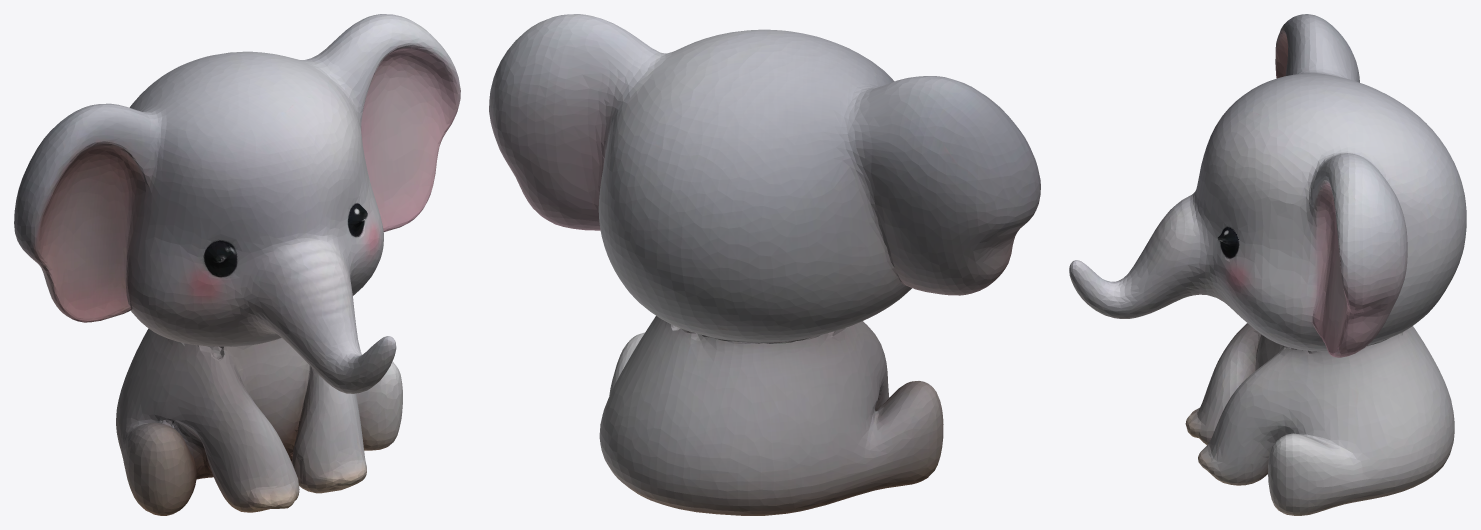
Rendered from elephant.glb.
3 views of the same model, side by side, from view 1: azimuth 30°, elevation 25°; view 2: azimuth 150°, elevation 25°; view 3: azimuth 270°, elevation 25° (orthographic). The views are drawn at different scales.
Visible parts, largest first — view 1: geometry_0; view 2: geometry_0; view 3: geometry_0.
Boxes of the visible parts, bbox=[...] form: geometry_0: bbox=[14, 14, 460, 515]; geometry_0: bbox=[489, 14, 1040, 515]; geometry_0: bbox=[1069, 14, 1466, 515].
Size of the model in its own units: 0.9988 by 0.8124 by 0.7913.
Materials: 1 (1 with a texture image).
